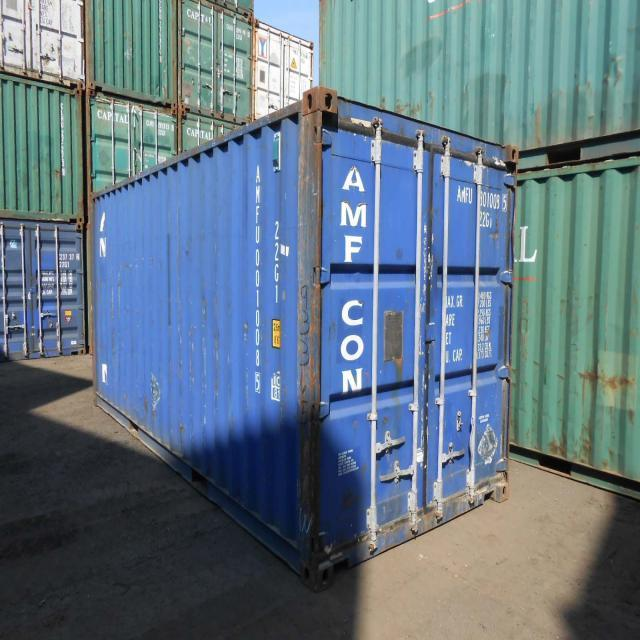ISO: (474, 213, 498, 233)
container_number: (455, 187, 510, 210)
